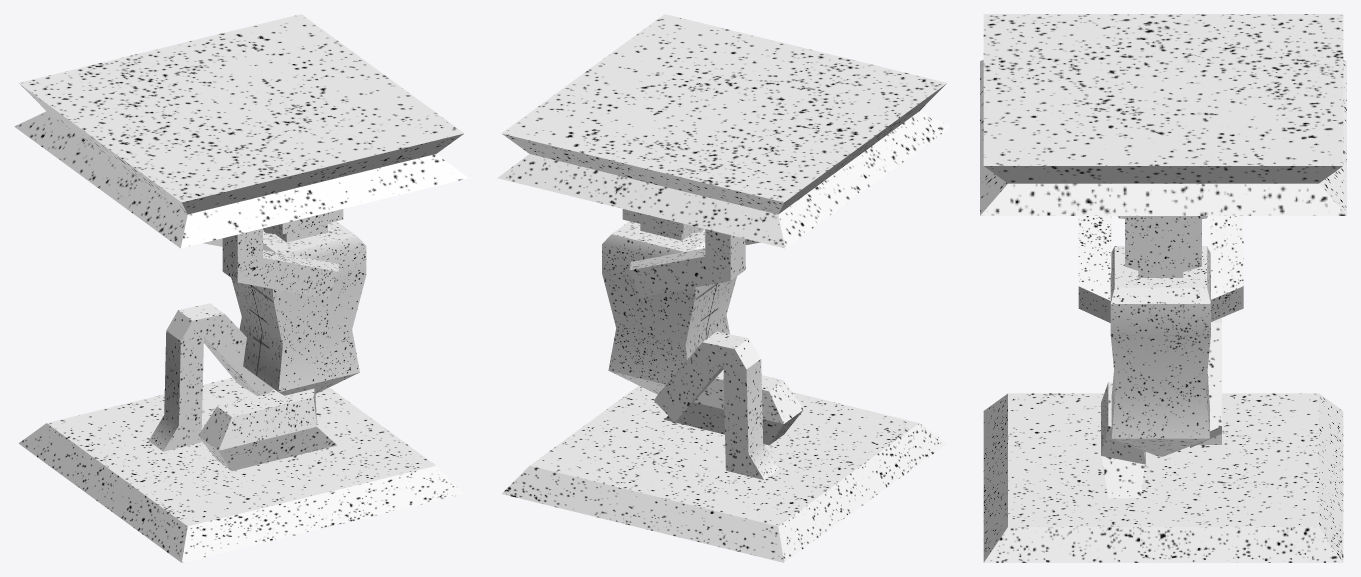
Rendered from StatueForUnity.fbx.
3 renders of one model, left to right at view 1: azimuth 30°, elevation 25°; view 2: azimuth 150°, elevation 25°; view 3: azimuth 270°, elevation 25°, orthographic. The views are drawn at different scales.
Parts seen in each view (by area): view 1: pCube12; view 2: pCube12; view 3: pCube12.
Part boxes in pixels (x1,y1,x2,y2): pCube12: [14, 14, 468, 562]; pCube12: [497, 14, 951, 562]; pCube12: [980, 14, 1346, 562].
Size of the model in its own units: 3.08 by 3.68 by 3.08.
Materials: 1 (1 with a texture image).
